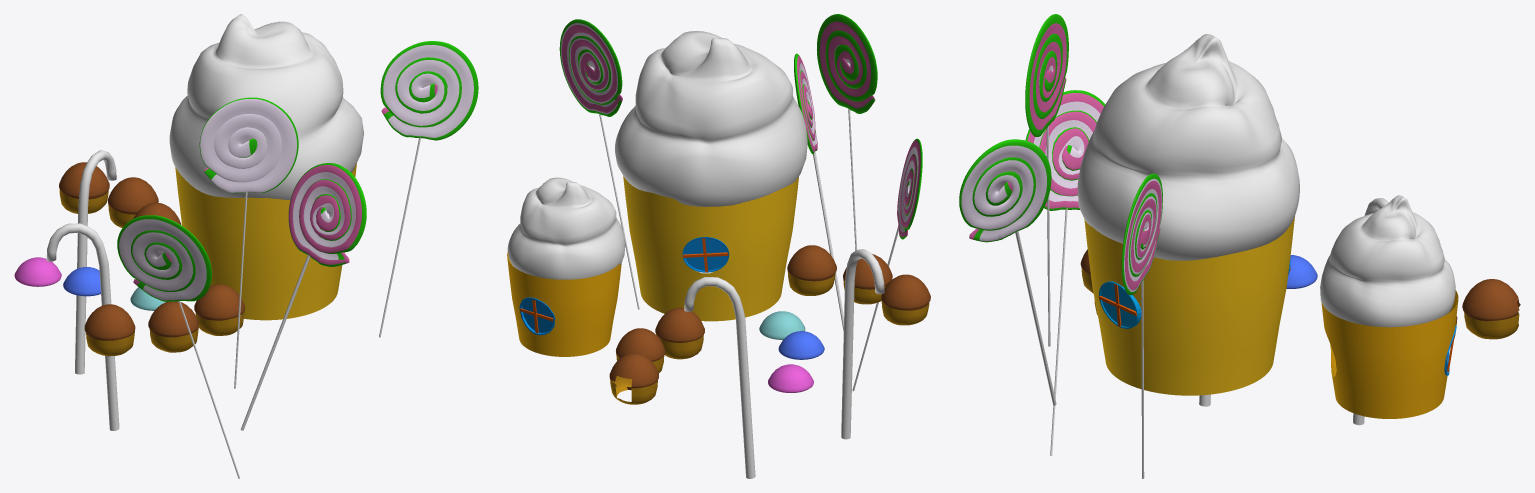
The model's file is land7 details.fbx.
The picture shows the model from 3 angles, left to right: view 1: azimuth 30°, elevation 25°; view 2: azimuth 150°, elevation 25°; view 3: azimuth 270°, elevation 25°; orthographic projection. The views are drawn at different scales.
Visible parts, largest first — view 1: CANDY1.012, icecream.001, Plane.007, cup cakes.003, CANDY2.010, cup cakes.004, CANDY1.013, ground stone.009, ground stone.011; view 2: icecream.001, Plane.007, CANDY1.012, cup cakes.003, Plane.008, CANDY2.010, cup cakes.004, Plane.010, CANDY1.013, ground stone.011, ground stone.009, ground stone.010 (+1 smaller); view 3: icecream.001, Plane.007, CANDY1.012, Plane.008, CANDY1.013, cup cakes.003, Plane.011, cup cakes.004, ground stone.011.
Boxes of the visible parts, box(x1,y1,x2,y2) form: CANDY1.012: box(117, 41, 478, 301); icecream.001: box(169, 14, 363, 199); Plane.007: box(175, 163, 356, 320); cup cakes.003: box(59, 162, 244, 340); CANDY2.010: box(46, 150, 119, 430); cup cakes.004: box(59, 189, 244, 356); CANDY1.013: box(178, 137, 420, 478); ground stone.009: box(14, 257, 61, 286); ground stone.011: box(63, 267, 100, 296); icecream.001: box(507, 31, 807, 279); Plane.007: box(623, 176, 798, 321); CANDY1.012: box(559, 14, 922, 239); cup cakes.003: box(609, 245, 930, 390); Plane.008: box(507, 252, 621, 356); CANDY2.010: box(684, 249, 884, 478); cup cakes.004: box(610, 271, 929, 404); Plane.010: box(519, 237, 729, 335); CANDY1.013: box(599, 108, 898, 391); ground stone.011: box(778, 331, 824, 359); ground stone.009: box(768, 364, 813, 392); ground stone.010: box(759, 311, 805, 339); icecream.001: box(1077, 34, 1455, 327); Plane.007: box(1084, 216, 1294, 395); CANDY1.012: box(959, 14, 1162, 295); Plane.008: box(1321, 290, 1458, 418); CANDY1.013: box(1015, 126, 1144, 478); cup cakes.003: box(1080, 249, 1520, 322); Plane.011: box(1099, 281, 1141, 328); cup cakes.004: box(1081, 268, 1519, 339); ground stone.011: box(1286, 255, 1317, 288).
Size of the model in its own units: 1794 by 1767 by 1957.
